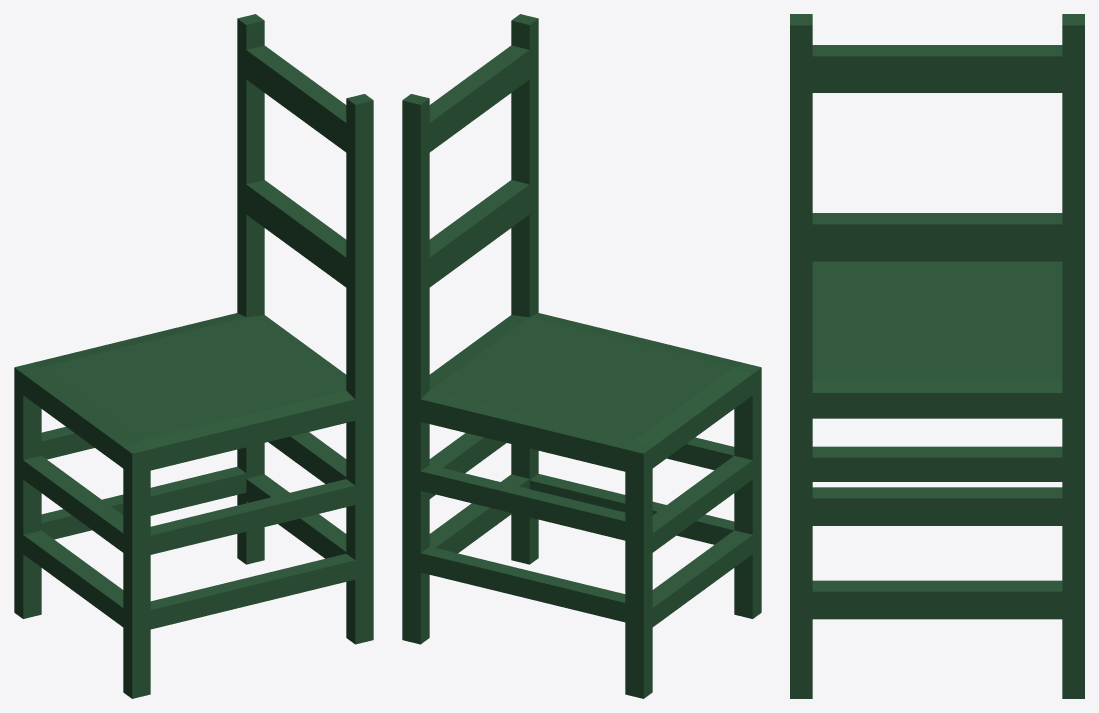
The model's file is cube.105_lev3.glb.
The picture shows the model from 3 angles, left to right: view 1: azimuth 30°, elevation 25°; view 2: azimuth 150°, elevation 25°; view 3: azimuth 270°, elevation 25°; orthographic projection. The views are drawn at different scales.
Parts seen in each view (by area): view 1: cube.105_lev3; view 2: cube.105_lev3; view 3: cube.105_lev3.
Part boxes in pixels (bbox=[...]): cube.105_lev3: bbox=[14, 14, 373, 698]; cube.105_lev3: bbox=[402, 14, 761, 698]; cube.105_lev3: bbox=[790, 14, 1084, 698].
Bounding box in the file's own units: 0.2823 × 0.6026 × 0.239.
